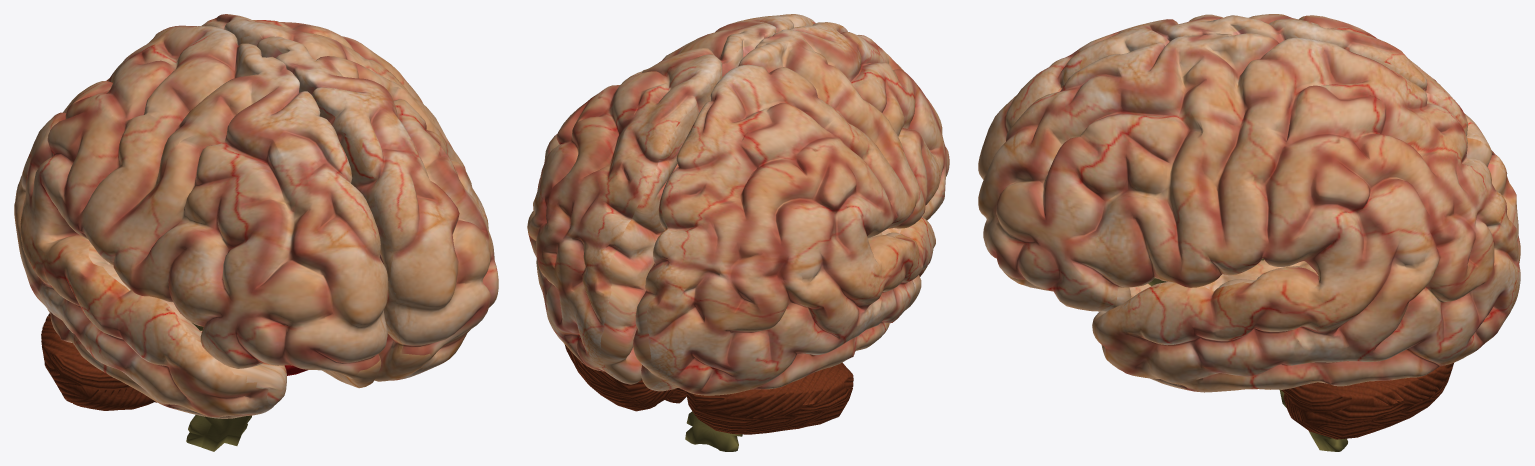
File: brain.glb
The picture shows the model from 3 angles, left to right: view 1: azimuth 30°, elevation 25°; view 2: azimuth 150°, elevation 25°; view 3: azimuth 270°, elevation 25°; orthographic projection. The views are drawn at different scales.
Parts seen in each view (by area): view 1: Brain; view 2: Brain; view 3: Brain.
Boxes of the visible parts, x1,y1,x2,y2 form: Brain: (14,14,498,451); Brain: (527,14,949,451); Brain: (978,14,1520,451).
Bounding box in the file's own units: 0.0106 × 0.0112 × 0.0132.
1 material, 1 textured.
